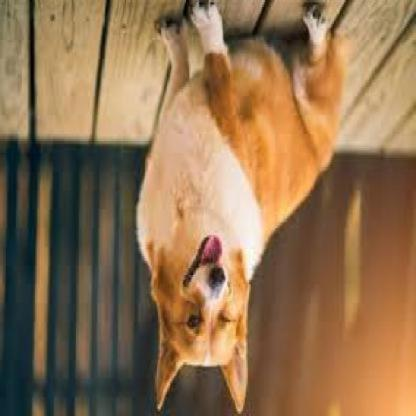dog: (134, 1, 350, 414)
